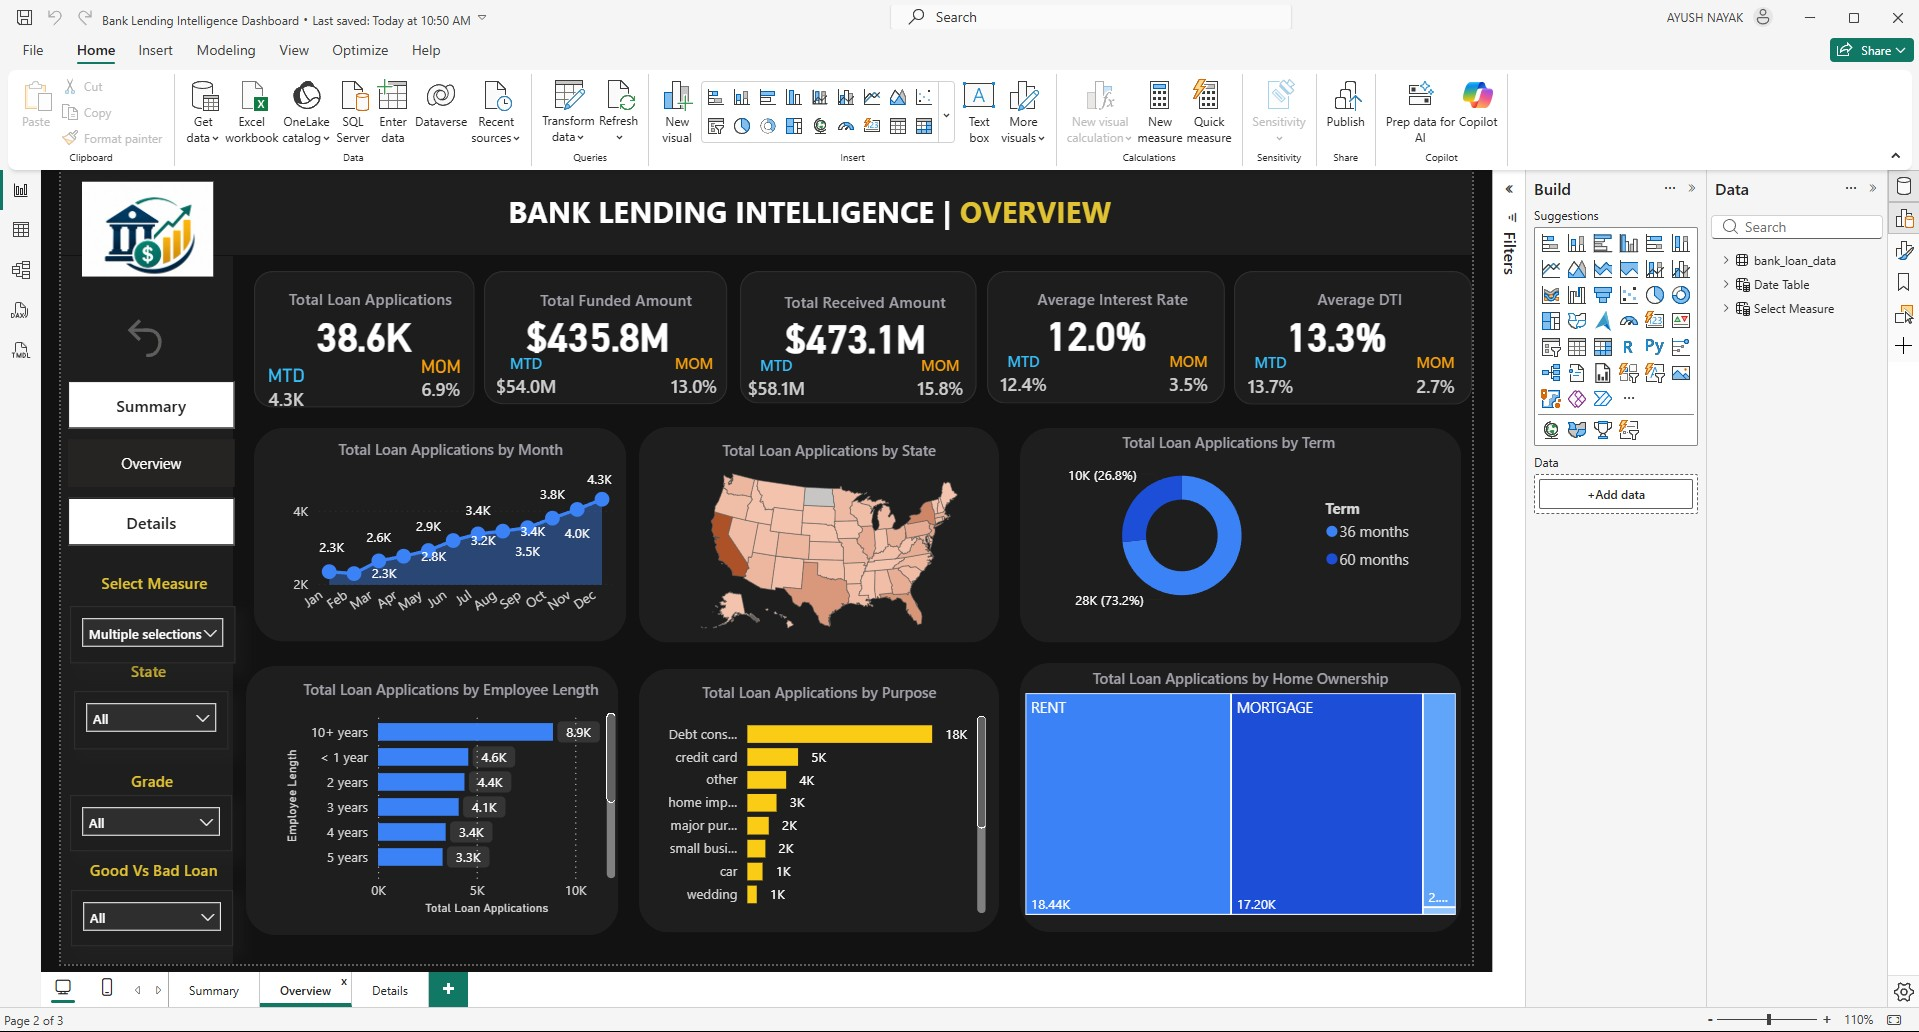

Layout of this report page (visuals, bound fields, positions):
{"tool":"powerbi","page":{"name":"Overview","canvas":[1280,720],"ordinal":1},"visuals":[{"type":"group","id":"g1","title":"Group 1","box":[173.4,91.7,201.3,133],"z":0},{"type":"shape","box":[175,91.7,200.2,123.7],"z":0,"group":"g1"},{"type":"shape","box":[1064.1,91.7,215.9,121.3],"z":0,"group":"g6"},{"type":"shape","box":[0,0,1280,77.2],"z":1000},{"type":"shape","box":[616.1,91.7,214.5,120.3],"z":1000,"group":"g2"},{"type":"card","fields":{"Values":["bank_loan_data.Total Loan Applications"]},"box":[184.9,125.8,179.2,46.4],"z":1000,"group":"g1"},{"type":"shape","box":[383.7,91.7,220.5,120.8],"z":2000,"group":"g5"},{"type":"group","id":"g2","title":"Group 2","box":[616.1,91.7,214.9,123],"z":2000},{"type":"textbox","box":[194.9,102.6,171.3,47.8],"z":2000,"group":"g1"},{"type":"shape","box":[0,77.6,156.3,641.8],"z":3000},{"type":"card","title":"MTD","fields":{"Values":["bank_loan_data.MTD Loan Applications"]},"box":[173.4,176.2,61.8,48.4],"z":3000,"group":"g1"},{"type":"shape","box":[840.1,91.7,215.7,120.3],"z":4000,"group":"g3"},{"type":"group","id":"g3","title":"Group 3","box":[840.1,91.7,214.9,119.9],"z":4000},{"type":"card","title":"MOM","fields":{"Values":["bank_loan_data.MOM Loan Applications"]},"box":[313.9,167.7,61.3,47.8],"z":4000,"group":"g1"},{"type":"shape","box":[175.4,233.8,337.6,193.5],"z":5000},{"type":"group","id":"g4","title":"Group 4","box":[1064.1,91.7,215.9,120.9],"z":6000},{"type":"card","fields":{"Values":["bank_loan_data.Avg DTI"]},"box":[1069.8,126.5,174.6,46.4],"z":6000,"group":"g6"},{"type":"textbox","box":[401.1,14.1,736.8,48.4],"z":7000},{"type":"card","fields":{"Values":["bank_loan_data.Total Amount Received"]},"box":[628.7,129.5,183.9,42.2],"z":7000,"group":"g2"},{"type":"group","id":"g5","title":"Group 6","box":[383.7,91.7,223.3,120.9],"z":8000},{"type":"card","fields":{"Values":["bank_loan_data.Total Funded Amount"]},"box":[399,125.9,175.5,44.9],"z":8000,"group":"g5"},{"type":"card","fields":{"Values":["bank_loan_data.Average Interest Rate"]},"box":[851.3,125,176.3,45.1],"z":9000,"group":"g3"},{"type":"textbox","box":[768.8,268.8,148.8,27.5],"z":9000},{"type":"slicer","fields":{"Values":["bank_loan_data.address_state"]},"box":[11.8,472.5,139.9,52.9],"z":10000},{"type":"textbox","box":[1085.5,102.3,184.8,46.8],"z":11000,"group":"g6"},{"type":"textbox","box":[14.1,439.4,130,33.3],"z":11000},{"type":"textbox","box":[637.6,105.2,183.4,46.6],"z":12000,"group":"g2"},{"type":"slicer","fields":{"Values":["bank_loan_data.grade"]},"box":[8.2,566.5,146.9,50.5],"z":12000},{"type":"textbox","box":[410.2,103.9,187.2,46.1],"z":13000,"group":"g5"},{"type":"textbox","box":[17.1,539.2,131,33.3],"z":13000},{"type":"textbox","box":[861.5,102.3,184.6,46.4],"z":14000,"group":"g3"},{"type":"textbox","box":[17.6,620.6,134,32.9],"z":14000},{"type":"slicer","fields":{"Values":["bank_loan_data.Good Vs Bad Loan"]},"box":[9.1,653.1,147.1,51.4],"z":15000},{"type":"card","title":"MTD","fields":{"Values":["bank_loan_data.MTD Avg DTI"]},"box":[1064.1,166.2,66.1,46.8],"z":16000,"group":"g6"},{"type":"areaChart","fields":{"Category":["Date Table.Month"],"Y":["bank_loan_data.Total Loan Applications"]},"box":[202.6,244.9,302.4,177.4],"z":16000},{"type":"card","title":"MTD","fields":{"Values":["bank_loan_data.MTD Total Amount Received"]},"box":[616.4,168.8,65.6,46.6],"z":17000,"group":"g2"},{"type":"slicer","fields":{"Values":["Select Measure.Select Measure"]},"box":[8.1,395.1,150.2,52.4],"z":17000},{"type":"card","title":"MTD","fields":{"Values":["bank_loan_data.MTD Funded Amount"]},"box":[388.6,166.8,67,46.1],"z":18000,"group":"g5"},{"type":"textbox","box":[22.2,359.8,126,33.3],"z":18000},{"type":"card","title":"MTD","fields":{"Values":["bank_loan_data.MTD Avg Int Rate"]},"box":[840.1,165.6,66.1,46.4],"z":19000,"group":"g3"},{"type":"shape","box":[524.1,232.8,326.6,195.5],"z":19000},{"type":"card","title":"MOM","fields":{"Values":["bank_loan_data.MOM Avg DTI"]},"box":[1213.9,166.2,66.1,46.8],"z":20000,"group":"g6"},{"type":"shapeMap","fields":{"Category":["bank_loan_data.address_state"],"Value":["bank_loan_data.Total Loan Applications"]},"box":[555.3,245.9,283.2,182.4],"z":20000},{"type":"shape","box":[869.8,233.8,400.1,194.5],"z":21000},{"type":"card","title":"MOM","fields":{"Values":["bank_loan_data.MOM Total Amount Received"]},"box":[765.1,168.8,65.6,46.6],"z":22000,"group":"g2"},{"type":"donutChart","fields":{"Category":["bank_loan_data.term"],"Y":["bank_loan_data.Total Loan Applications"]},"box":[881.5,238.1,354.9,168.8],"z":22000},{"type":"card","title":"MOM","fields":{"Values":["bank_loan_data.MOM Total Funded Amount"]},"box":[540.3,166.8,67,46.1],"z":23000,"group":"g5"},{"type":"shape","box":[167.3,449.5,337.6,243.9],"z":23000},{"type":"card","title":"MOM","fields":{"Values":["bank_loan_data.MOM Avg Int Rate"]},"box":[989.7,165.6,66.1,46.4],"z":24000,"group":"g3"},{"type":"barChart","fields":{"Category":["bank_loan_data.emp_length"],"Y":["bank_loan_data.Total Loan Applications"]},"box":[199.6,462.6,308.4,217.7],"z":24000},{"type":"shape","box":[524.1,452.5,326.6,238.9],"z":25000},{"type":"barChart","fields":{"Category":["bank_loan_data.purpose"],"Y":["bank_loan_data.Total Loan Applications"]},"box":[531.1,465.6,312.4,213.7],"z":26000},{"type":"shape","box":[869.8,447.5,400.1,243.9],"z":27000},{"type":"treemap","fields":{"Group":["bank_loan_data.home_ownership"],"Values":["bank_loan_data.Total Loan Applications"]},"box":[869.8,452.5,400.1,227.8],"z":28000},{"type":"pageNavigator","box":[6,191.5,151.2,151.2],"z":29000},{"type":"actionButton","box":[53.4,130,64.5,45.4],"z":30000},{"type":"image","box":[19.1,4,118.9,99.8],"z":31000},{"type":"group","id":"g6","title":"Group 5","box":[1064.1,91.7,215.9,121.3],"z":43004,"group":"g4"}]}

Visuals, with their boxes on the page's 1280x720 design canvas (x1, y1, x2, y2). These are canvas units, not pixel positions in the 1919x1032 screenshot, which may show the page scaled, cropped or inside an application window:
"Group 1" group: Rect(173, 92, 375, 225)
shape: Rect(175, 92, 375, 215)
shape: Rect(1064, 92, 1280, 213)
shape: Rect(0, 0, 1280, 77)
shape: Rect(616, 92, 831, 212)
card - bank_loan_data.Total Loan Applications: Rect(185, 126, 364, 172)
shape: Rect(384, 92, 604, 212)
"Group 2" group: Rect(616, 92, 831, 215)
textbox: Rect(195, 103, 366, 150)
shape: Rect(0, 78, 156, 719)
"MTD" card: Rect(173, 176, 235, 225)
shape: Rect(840, 92, 1056, 212)
"Group 3" group: Rect(840, 92, 1055, 212)
"MOM" card: Rect(314, 168, 375, 216)
shape: Rect(175, 234, 513, 427)
"Group 4" group: Rect(1064, 92, 1280, 213)
card - bank_loan_data.Avg DTI: Rect(1070, 126, 1244, 173)
textbox: Rect(401, 14, 1138, 62)
card - bank_loan_data.Total Amount Received: Rect(629, 130, 813, 172)
"Group 6" group: Rect(384, 92, 607, 213)
card - bank_loan_data.Total Funded Amount: Rect(399, 126, 574, 171)
card - bank_loan_data.Average Interest Rate: Rect(851, 125, 1028, 170)
textbox: Rect(769, 269, 918, 296)
slicer - bank_loan_data.address_state: Rect(12, 472, 152, 525)
textbox: Rect(1086, 102, 1270, 149)
textbox: Rect(14, 439, 144, 473)
textbox: Rect(638, 105, 821, 152)
slicer - bank_loan_data.grade: Rect(8, 566, 155, 617)
textbox: Rect(410, 104, 597, 150)
textbox: Rect(17, 539, 148, 572)
textbox: Rect(862, 102, 1046, 149)
textbox: Rect(18, 621, 152, 654)
slicer - bank_loan_data.Good Vs Bad Loan: Rect(9, 653, 156, 704)
"MTD" card: Rect(1064, 166, 1130, 213)
areaChart - Date Table.Month x bank_loan_data.Total Loan Applications: Rect(203, 245, 505, 422)
"MTD" card: Rect(616, 169, 682, 215)
slicer - Select Measure.Select Measure: Rect(8, 395, 158, 448)
"MTD" card: Rect(389, 167, 456, 213)
textbox: Rect(22, 360, 148, 393)
"MTD" card: Rect(840, 166, 906, 212)
shape: Rect(524, 233, 851, 428)
"MOM" card: Rect(1214, 166, 1280, 213)
shapeMap - bank_loan_data.address_state x bank_loan_data.Total Loan Applications: Rect(555, 246, 838, 428)
shape: Rect(870, 234, 1270, 428)
"MOM" card: Rect(765, 169, 831, 215)
donutChart - bank_loan_data.term x bank_loan_data.Total Loan Applications: Rect(882, 238, 1236, 407)
"MOM" card: Rect(540, 167, 607, 213)
shape: Rect(167, 450, 505, 693)
"MOM" card: Rect(990, 166, 1056, 212)
barChart - bank_loan_data.emp_length x bank_loan_data.Total Loan Applications: Rect(200, 463, 508, 680)
shape: Rect(524, 452, 851, 691)
barChart - bank_loan_data.purpose x bank_loan_data.Total Loan Applications: Rect(531, 466, 844, 679)
shape: Rect(870, 448, 1270, 691)
treemap - bank_loan_data.home_ownership x bank_loan_data.Total Loan Applications: Rect(870, 452, 1270, 680)
pageNavigator: Rect(6, 192, 157, 343)
actionButton: Rect(53, 130, 118, 175)
image: Rect(19, 4, 138, 104)
"Group 5" group: Rect(1064, 92, 1280, 213)
